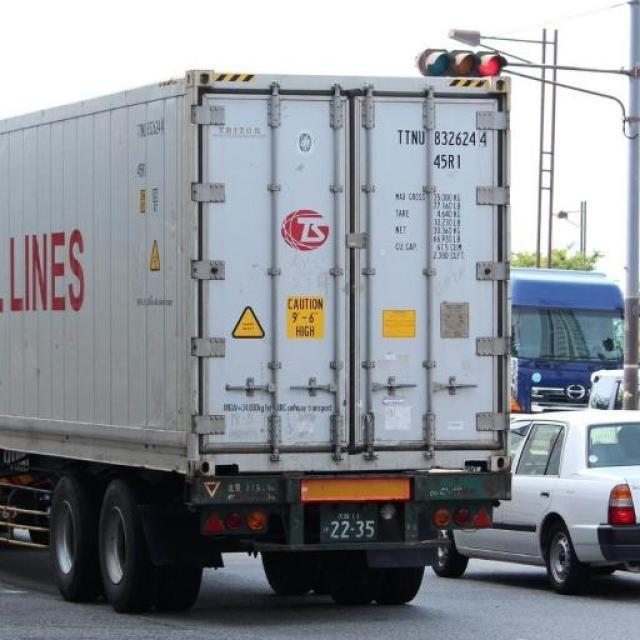ISO: (432, 150, 462, 170)
container_number: (394, 132, 492, 148)
